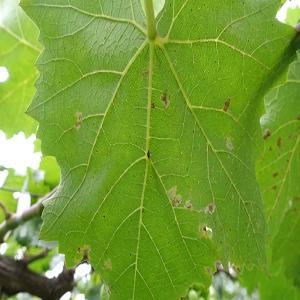Folha: (18, 0, 299, 300)
Fungo: (167, 185, 181, 207), (76, 244, 90, 263), (73, 108, 83, 130), (160, 88, 170, 108), (204, 201, 216, 215), (202, 225, 212, 240), (102, 257, 112, 271), (225, 136, 234, 150), (184, 198, 193, 212), (188, 288, 198, 299), (224, 96, 230, 112), (262, 128, 270, 140), (160, 92, 168, 104), (277, 136, 281, 148), (142, 68, 148, 76), (272, 171, 278, 178), (146, 149, 150, 159), (151, 100, 155, 108), (268, 145, 272, 151)
